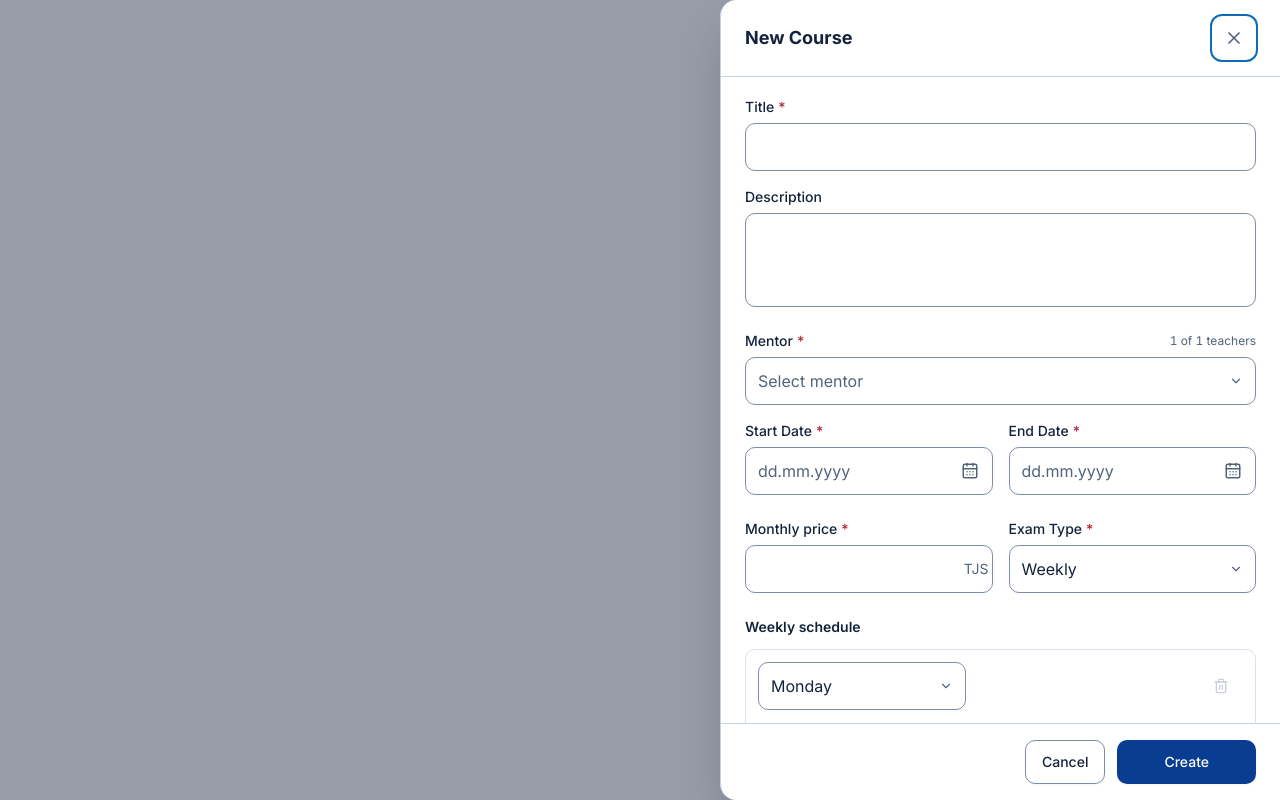
Test: intercepts dirty dismissal with discard confirmation dialog and restores focus on keep editing
This screenshot has width=1280, height=800.
Type "Dirty course title" into the field labelled "Title*" at point(1000, 147), box [745,123,1256,171]
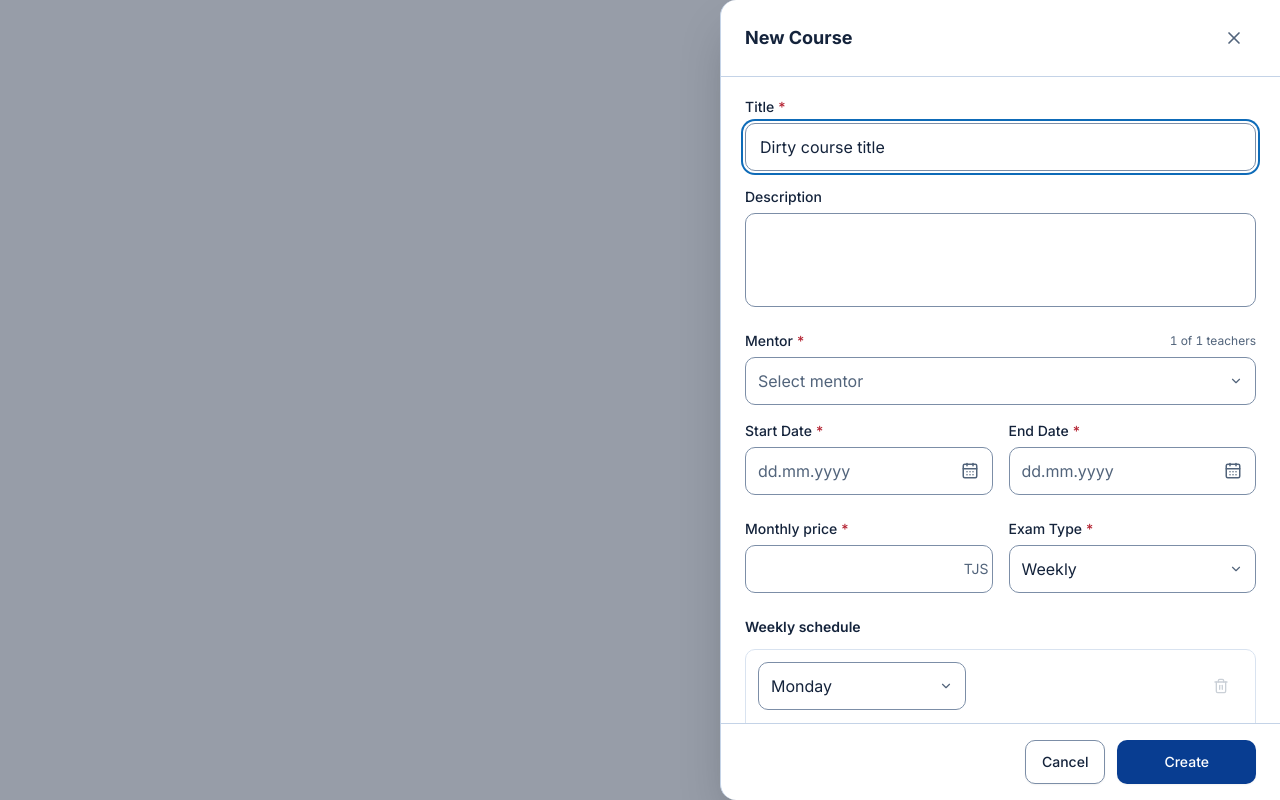
Click the button "Cancel" at point(1065, 762), box [1025,740,1105,784]
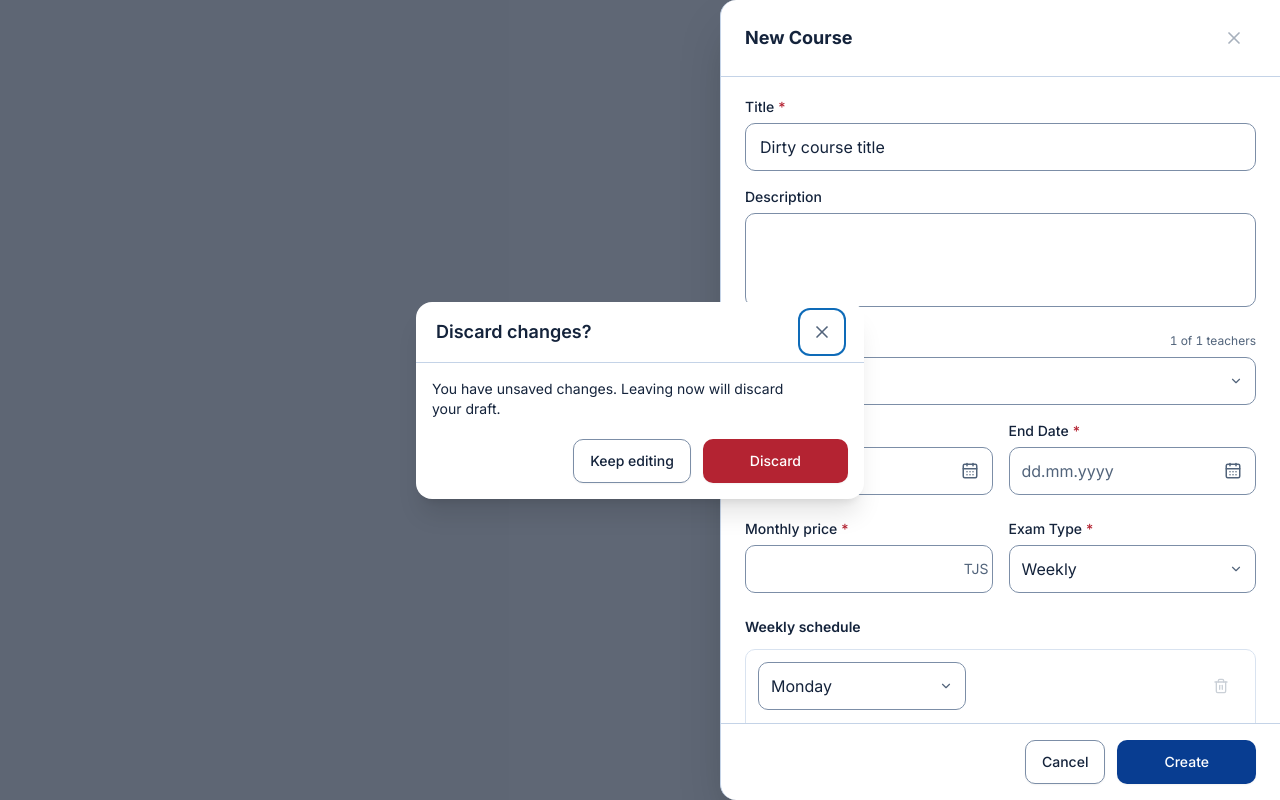
Expected: the heading "Discard changes?" is shown, [436,318,592,346]
Click the button "Keep editing" at point(632, 460), box [573,438,691,482]
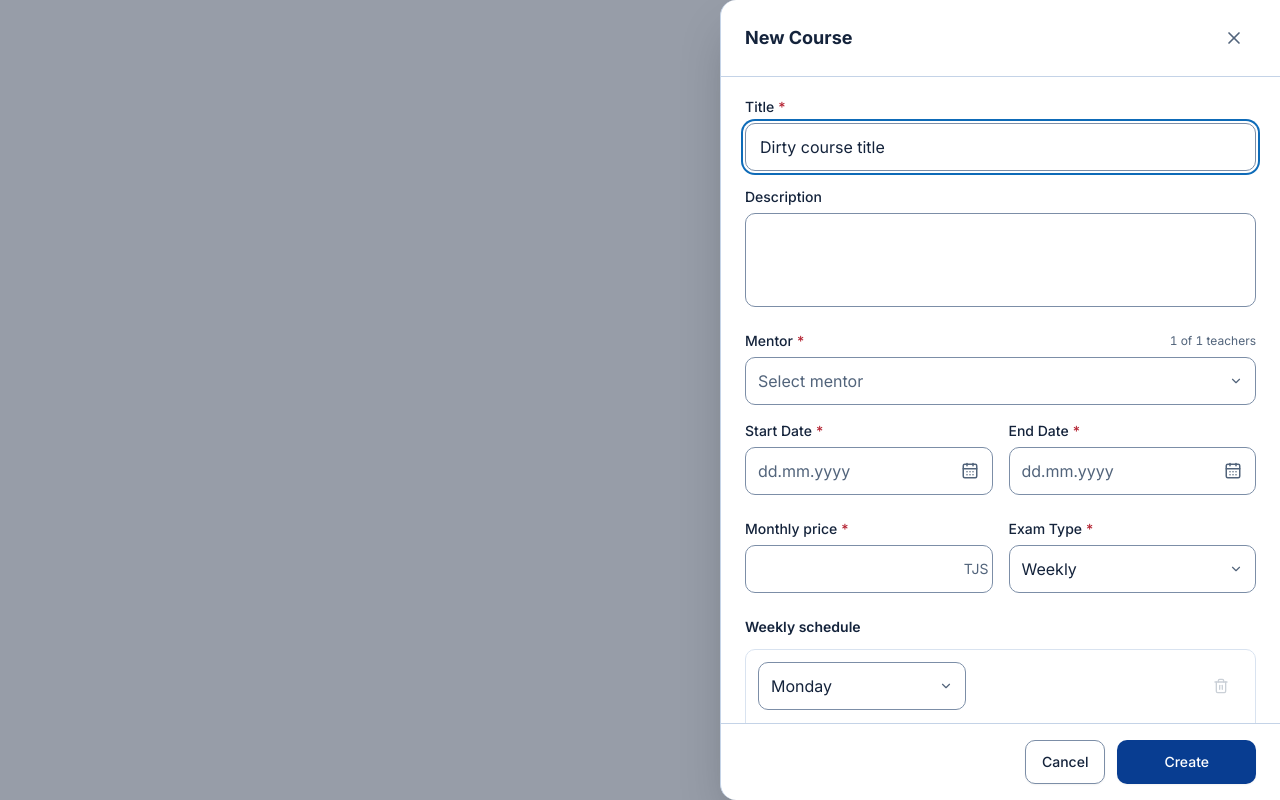
Expected: the heading "Discard changes?" is gone
